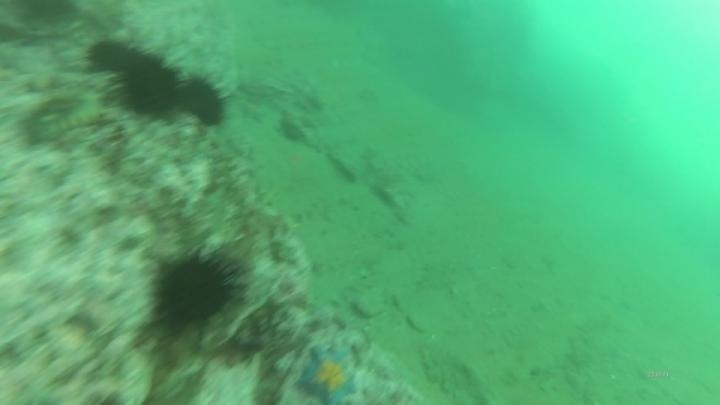echinus: (147, 245, 245, 337), (112, 49, 186, 122), (174, 72, 231, 130), (84, 36, 143, 76)
holothurian: (19, 87, 110, 148)
starfish: (294, 343, 361, 405), (237, 97, 271, 126)
